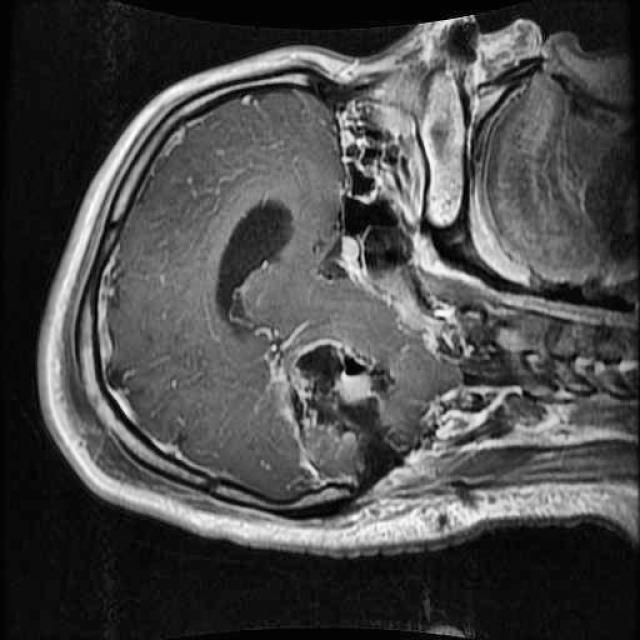Tumor: (266, 324, 428, 514)
